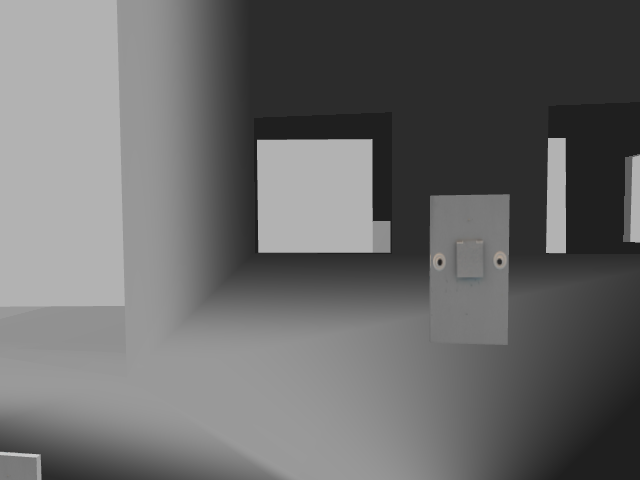facade: (430, 236, 507, 282)
